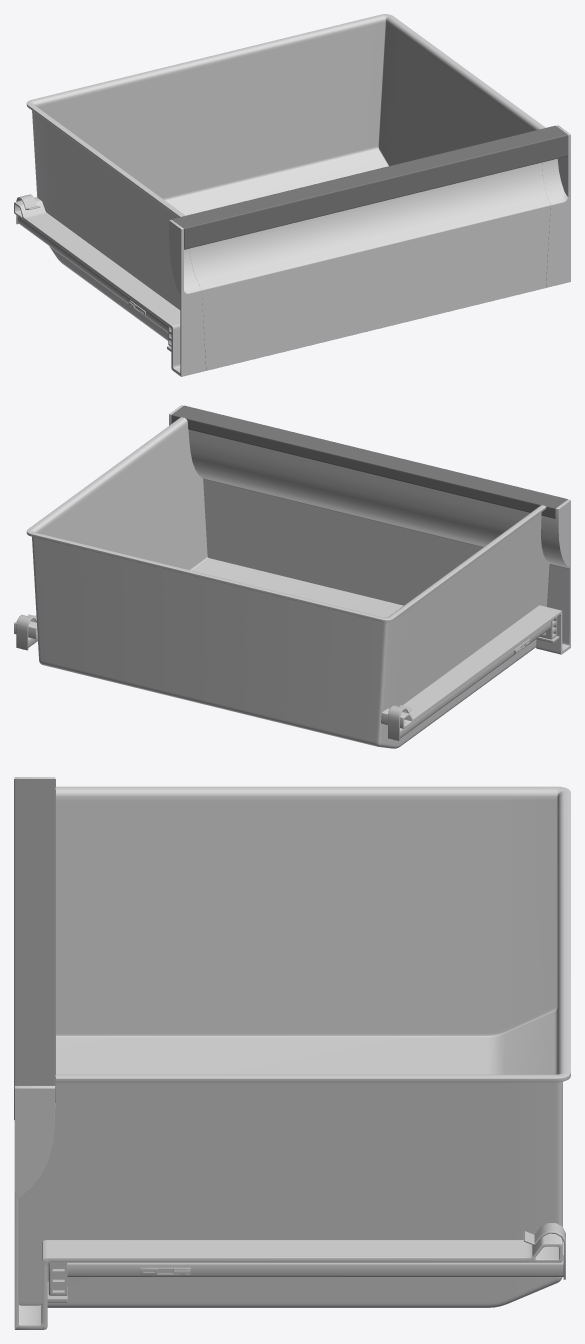
The model's file is SM_Fridge_Drawer_01.dae.
The picture shows the model from 3 angles, top to bottom: view 1: azimuth 30°, elevation 25°; view 2: azimuth 150°, elevation 25°; view 3: azimuth 270°, elevation 25°; orthographic projection. The views are drawn at different scales.
Visible parts, largest first — view 1: SM_Fridge_Drawer_01; view 2: SM_Fridge_Drawer_01; view 3: SM_Fridge_Drawer_01.
Boxes of the visible parts, <box> form: SM_Fridge_Drawer_01: <box>14,14,570,376</box>; SM_Fridge_Drawer_01: <box>14,405,570,748</box>; SM_Fridge_Drawer_01: <box>14,777,570,1329</box>.
Size of the model in its own units: 0.4543 by 0.3436 by 0.165.
